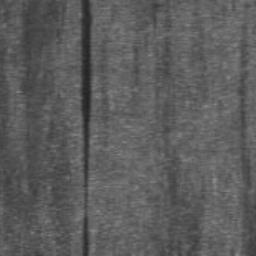Scratches: (79, 0, 91, 256)
